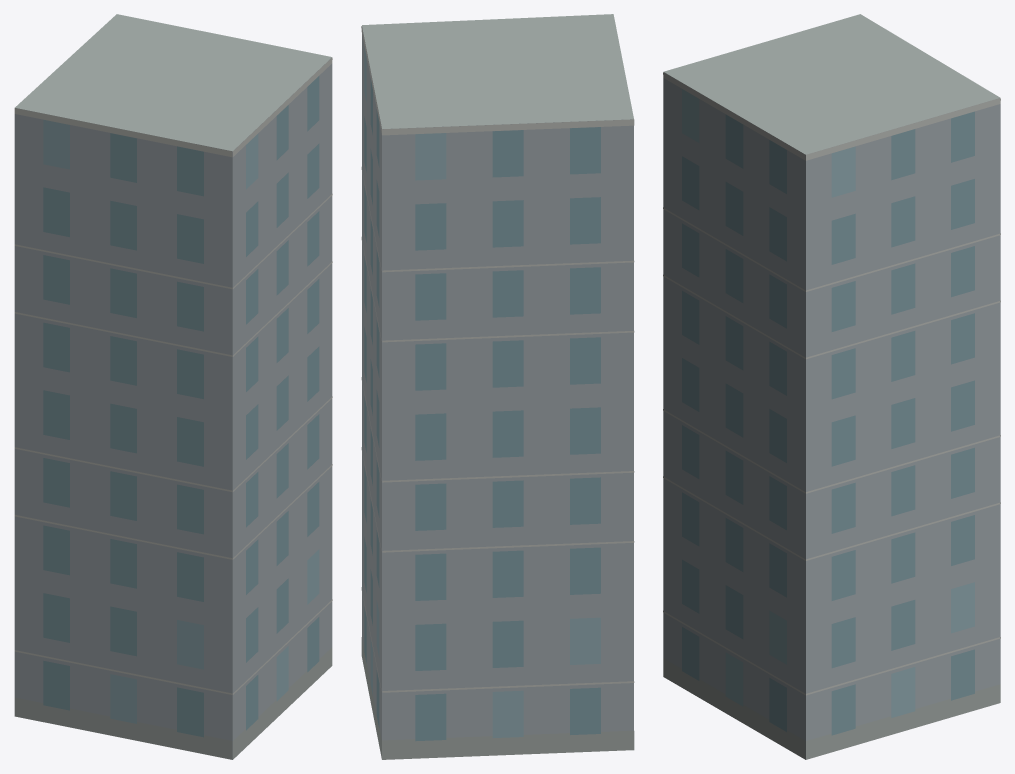
The model's file is survey-upis-33003588.glb.
The picture shows the model from 3 angles, left to right: view 1: azimuth 30°, elevation 25°; view 2: azimuth 150°, elevation 25°; view 3: azimuth 270°, elevation 25°; orthographic projection. The views are drawn at different scales.
Parts seen in each view (by area): view 1: survey-upis-33003588.tmp; view 2: survey-upis-33003588.tmp; view 3: survey-upis-33003588.tmp.
Part boxes in pixels (left/top/right/bottom): survey-upis-33003588.tmp: left=14, top=14, right=332, bottom=759; survey-upis-33003588.tmp: left=361, top=14, right=634, bottom=759; survey-upis-33003588.tmp: left=663, top=14, right=1000, bottom=759.
Bounding box in the file's own units: 12.15 × 24.3 × 12.3.
